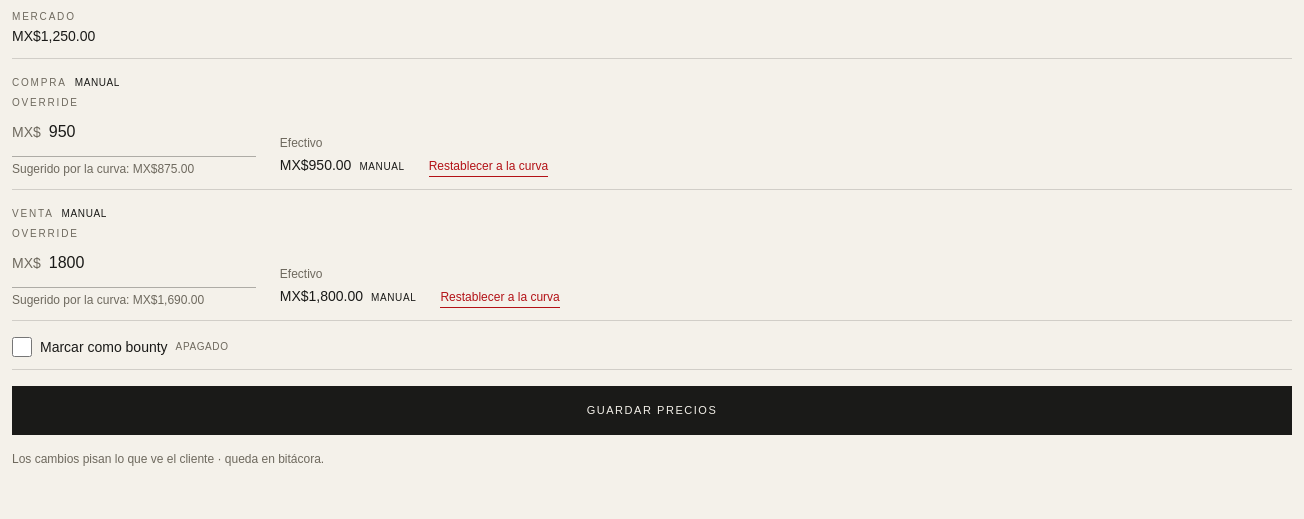
Test: VariantPriceConsole (§16.3b) · edición super_admin › «Restablecer a la curva» manda null explícito SOLO de esa cara (visible solo con override)
The image size is (1304, 519).
Click the button "Restablecer a la curva" in the row of "MX$950.00" at (488, 168), box [429,158,548,177]
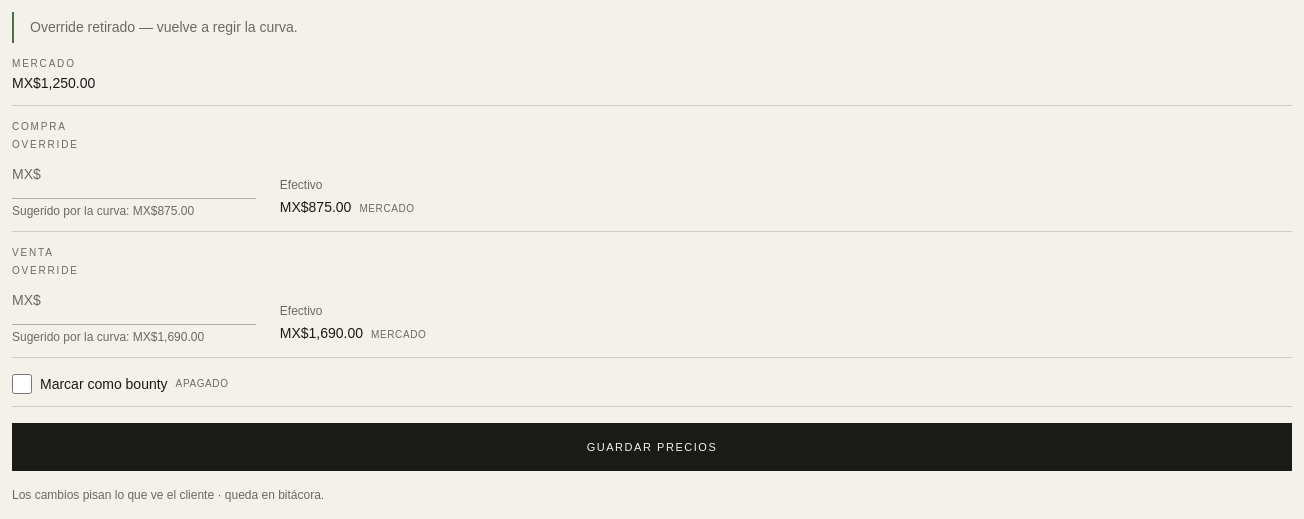
Now the text "Override retirado — vuelve a regir la curva." is shown, box [30,19,298,35]
